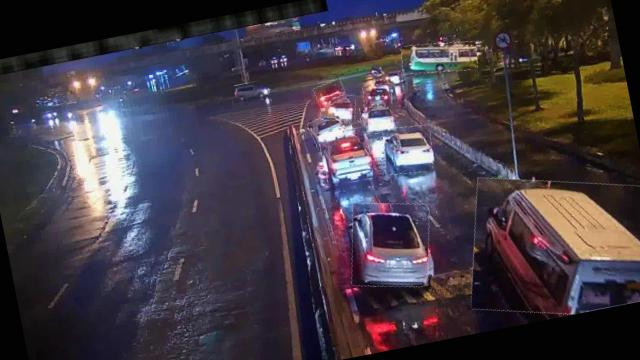Bus: (455, 155, 640, 330), (399, 34, 480, 80)
Car: (341, 193, 440, 296), (318, 126, 376, 187), (379, 122, 436, 178), (308, 108, 356, 148), (318, 90, 359, 124), (358, 102, 396, 136), (230, 80, 270, 104), (314, 78, 348, 106), (362, 81, 394, 110), (381, 66, 408, 86)
